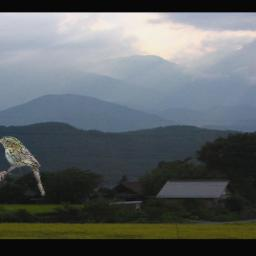Sparrow: (0, 137, 46, 197)
